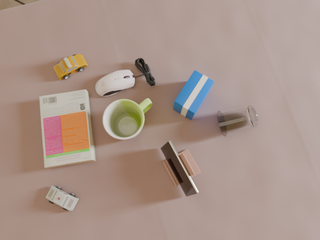book: (40, 90, 96, 168)
box: (173, 70, 214, 120)
cup: (103, 98, 152, 140), (218, 105, 258, 136)
mouse: (95, 70, 135, 96)
phone: (161, 140, 199, 196)
toy_car: (54, 54, 88, 80), (46, 185, 79, 211)
